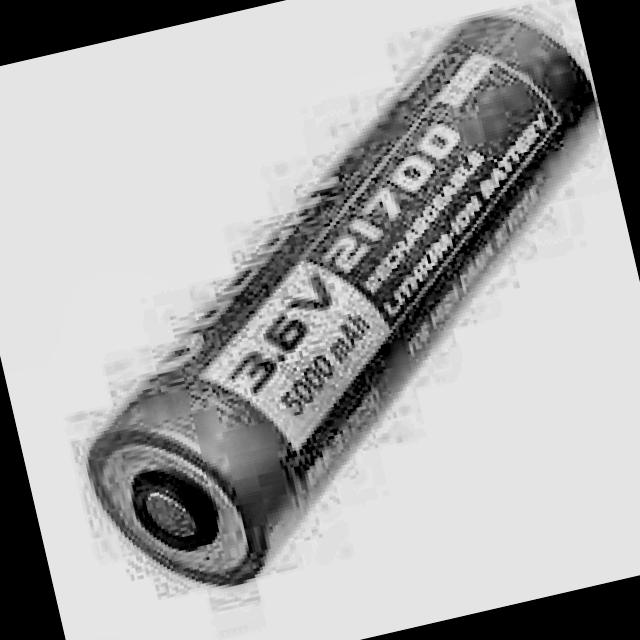Battery: (10, 0, 640, 605)
